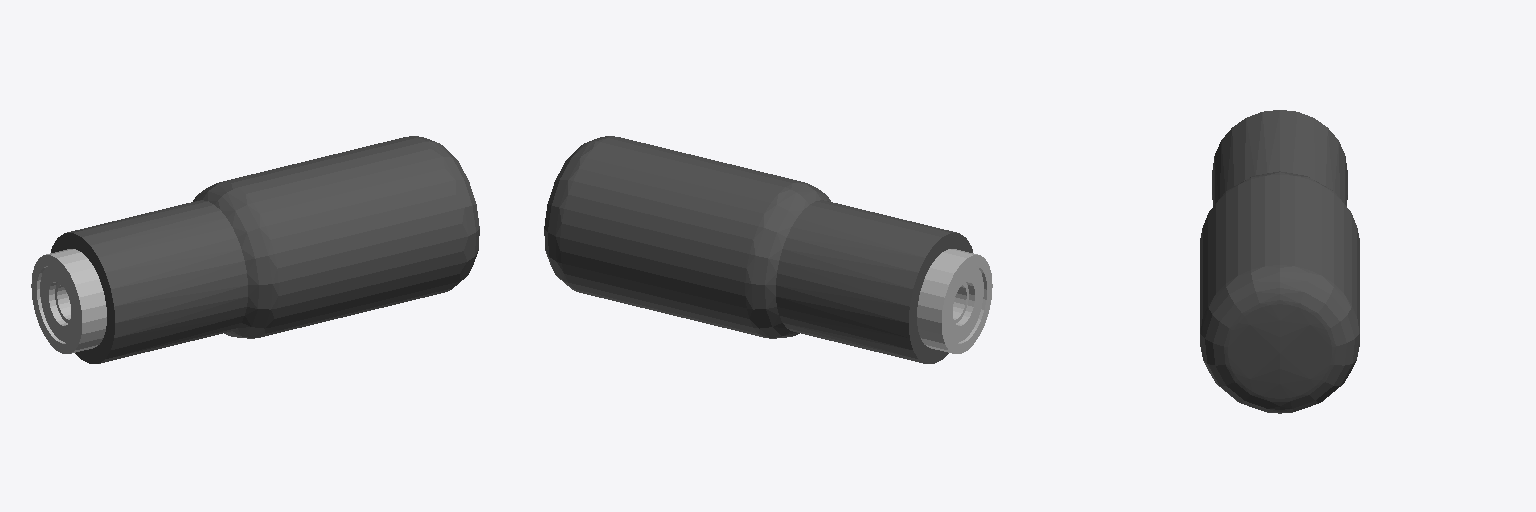
The picture shows the model from 3 angles: view 1: azimuth 30°, elevation 25°; view 2: azimuth 150°, elevation 25°; view 3: azimuth 270°, elevation 25°; orthographic projection.
Visible parts, largest first — view 1: gn_798_2-kt-22-m6_1; view 2: gn_798_2-kt-22-m6_1; view 3: gn_798_2-kt-22-m6_1.
Boxes of the visible parts, <box> form: gn_798_2-kt-22-m6_1: <box>31,136,479,363</box>; gn_798_2-kt-22-m6_1: <box>544,136,992,363</box>; gn_798_2-kt-22-m6_1: <box>1200,110,1359,413</box>.
Size of the model in its own units: 62.9 by 22 by 21.91.